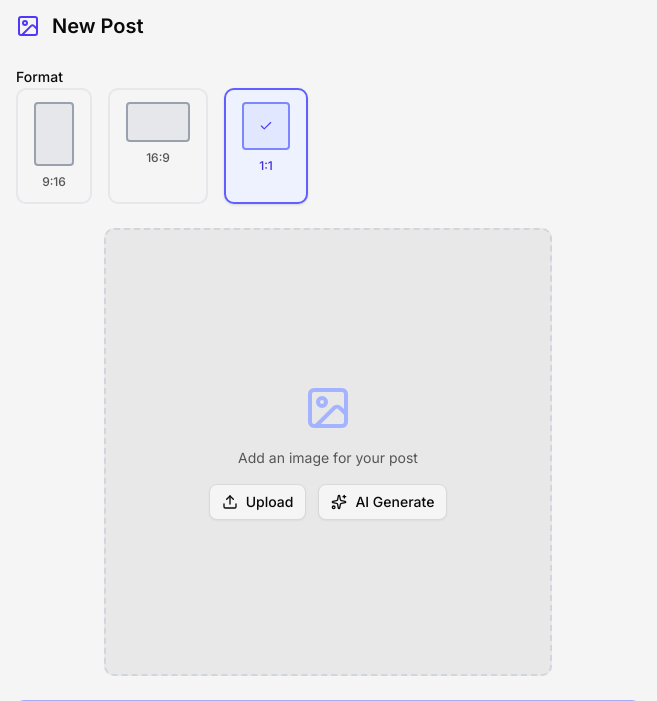
Test: CreatePostPage › shows prompt character counter
The image size is (657, 701).
Click the button "AI Generate".
click(383, 502)  # box [318,484,447,520]
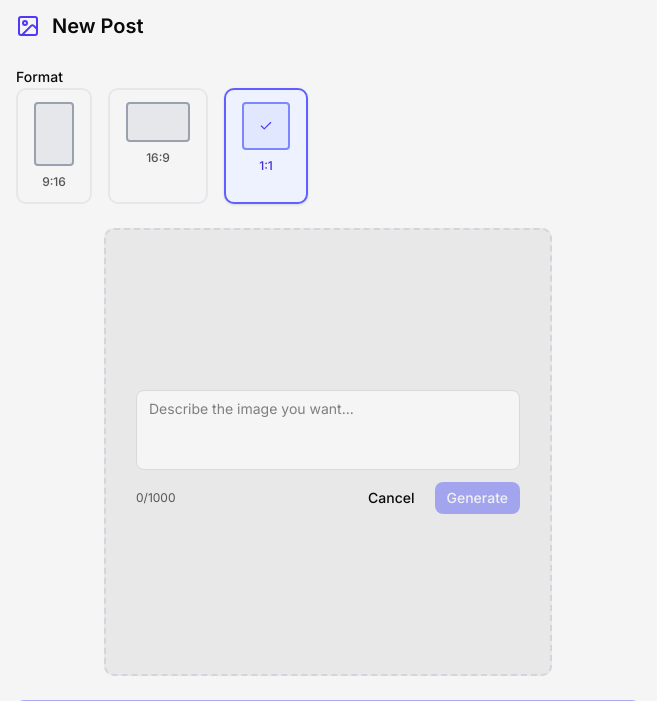
Check: the text "0/1000" is shown, box [136,490,176,506]
Type "Hello" into the text box with placeholder "Describe the image you want...".
click(328, 430); type("Hello")  # box [136,390,520,470]
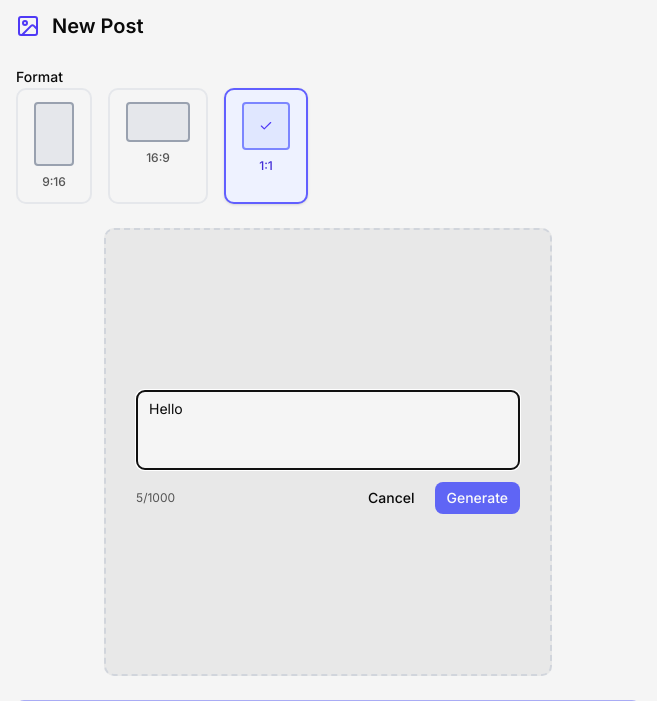
Check: the text "5/1000" is shown, box [136,490,175,506]
